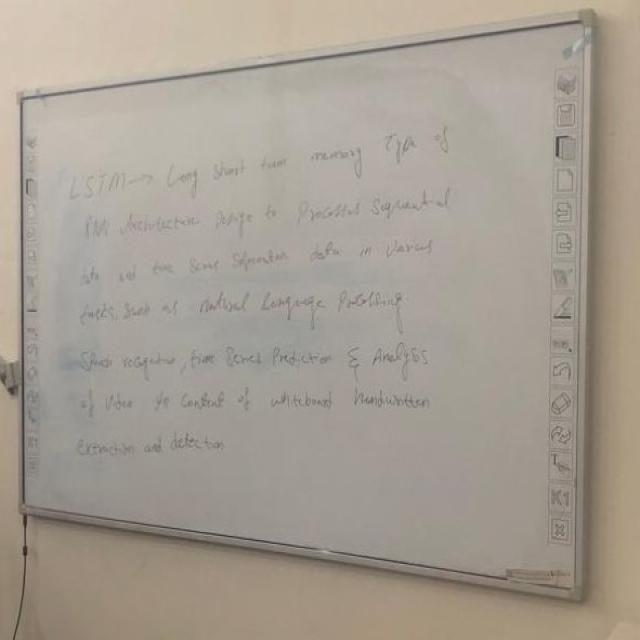White-board: (22, 20, 590, 599)
